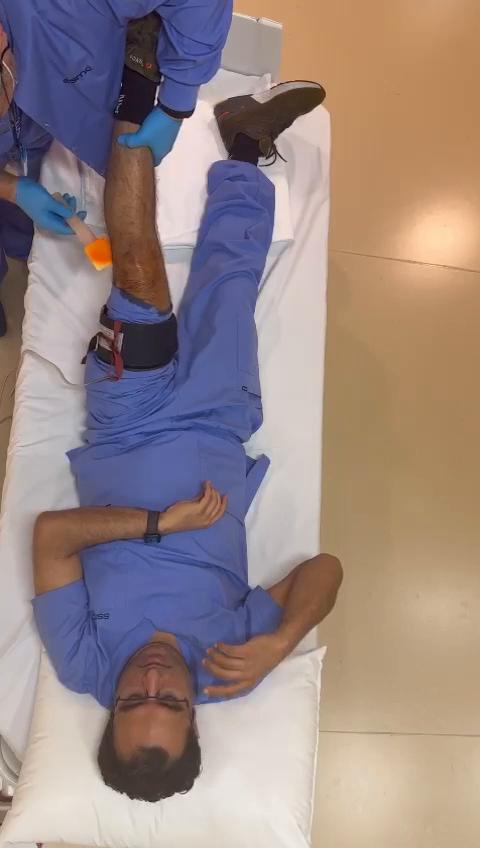patient: (33, 17, 343, 801)
prepstick: (66, 214, 113, 269)
tourniquet: (88, 307, 179, 377)
